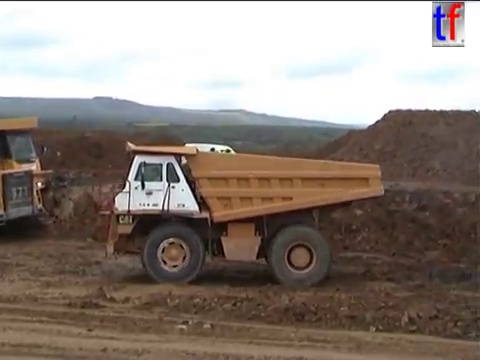truck: (96, 138, 385, 290), (1, 113, 56, 240)
worker: (219, 145, 236, 178), (205, 145, 219, 178)
